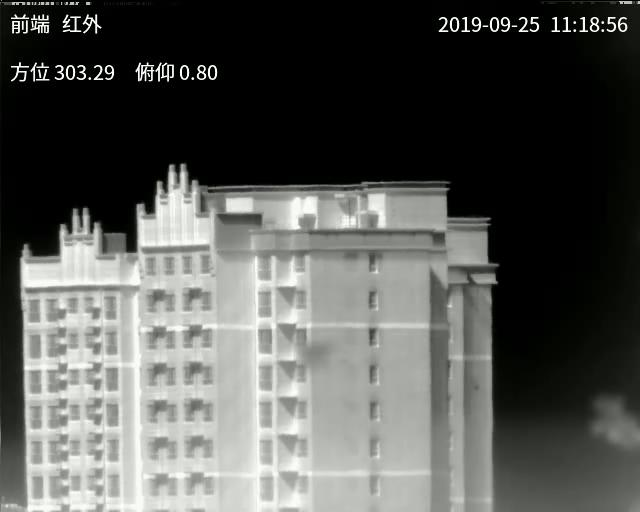uav: (294, 340, 341, 373)
